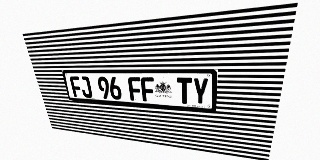6: (108, 77, 122, 100)
9: (97, 77, 111, 99)
F: (140, 77, 155, 102), (127, 77, 142, 101), (69, 76, 83, 97)
J: (79, 76, 93, 98)
T: (177, 77, 192, 104)
Y: (192, 78, 209, 105)
